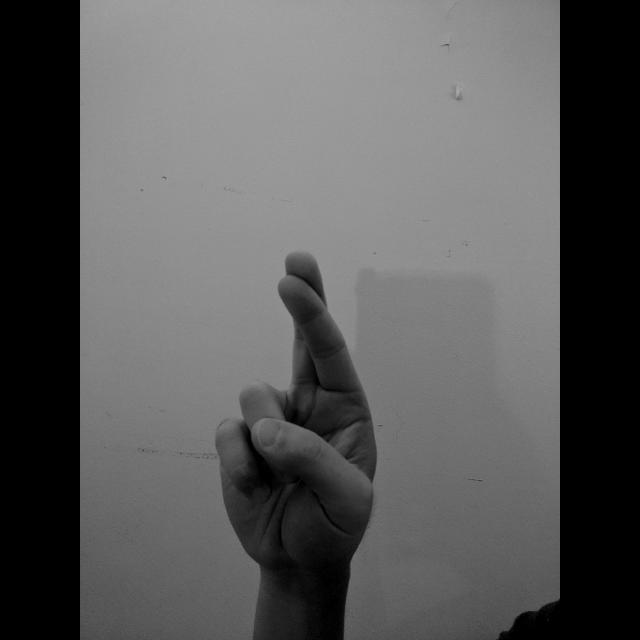R: (210, 245, 386, 577)
